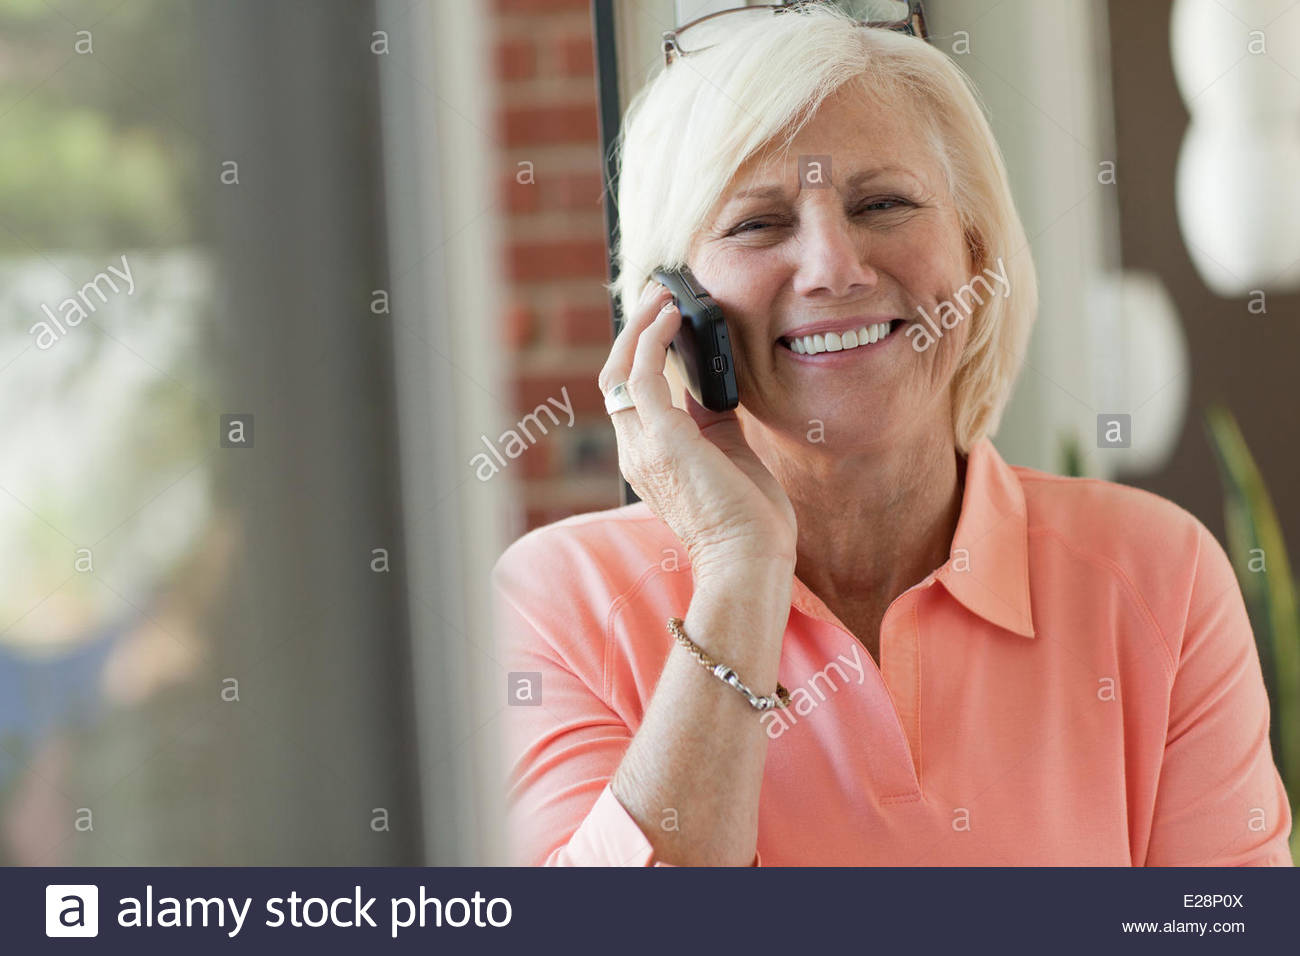phone: (595, 261, 757, 435)
talk: (593, 152, 985, 589)
